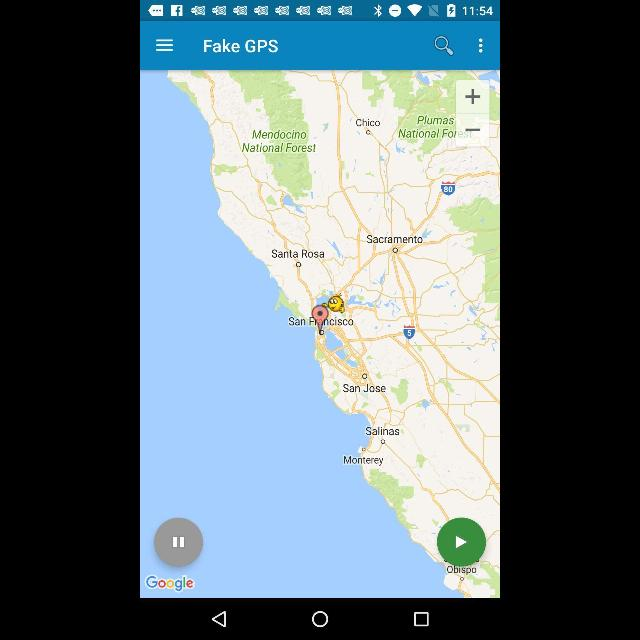icon: (434, 36, 454, 58), (312, 612, 328, 628), (212, 612, 226, 628), (158, 38, 172, 52), (414, 613, 428, 627), (478, 36, 484, 54)
map: (140, 69, 500, 597)
panel: (140, 598, 500, 640)
text: (206, 37, 278, 55)
toolbar: (140, 21, 500, 69)
uppertaskbar: (140, 1, 500, 22)
